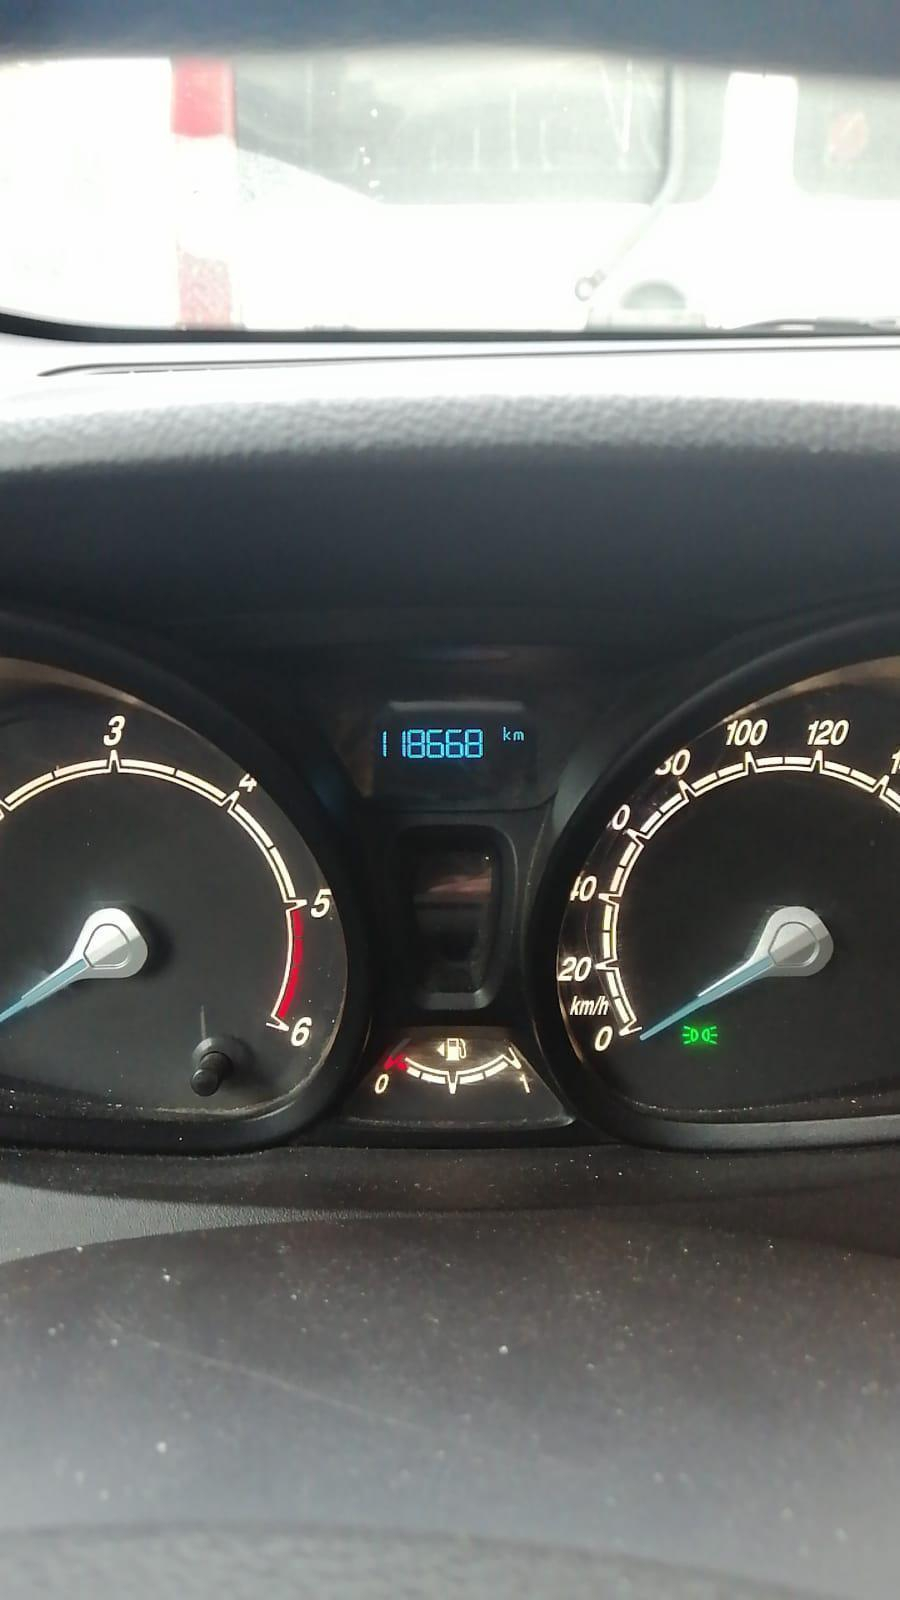1: (381, 729, 387, 757), (400, 729, 405, 757)
6: (425, 727, 444, 758), (445, 727, 464, 758)
8: (464, 727, 484, 758), (405, 729, 425, 758)
X: (502, 726, 511, 741), (513, 730, 524, 741)
odometer: (373, 705, 543, 800)
